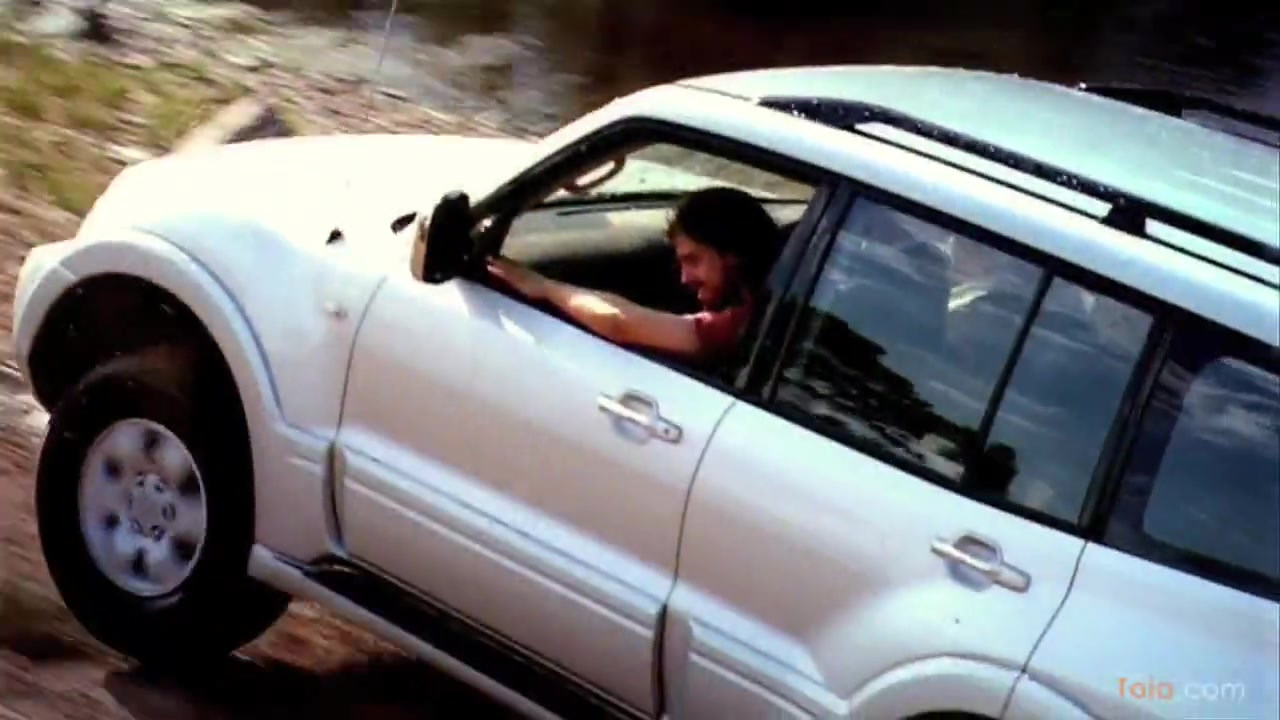car: (13, 59, 1280, 720)
